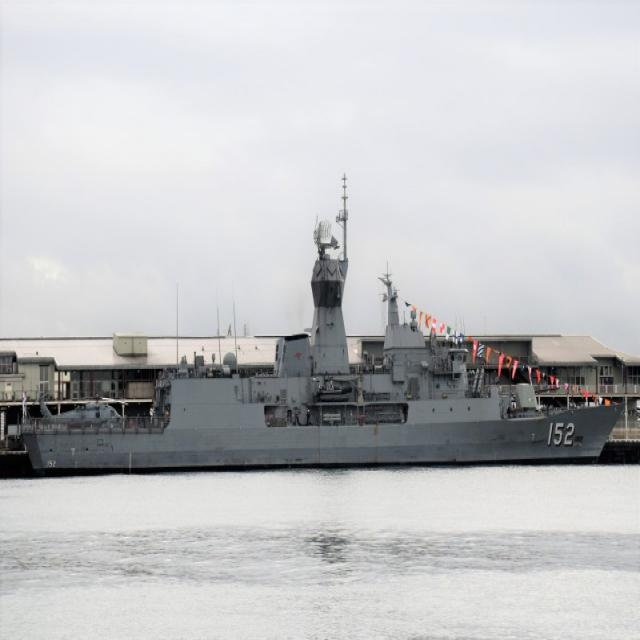Fragata: (15, 137, 622, 484)
